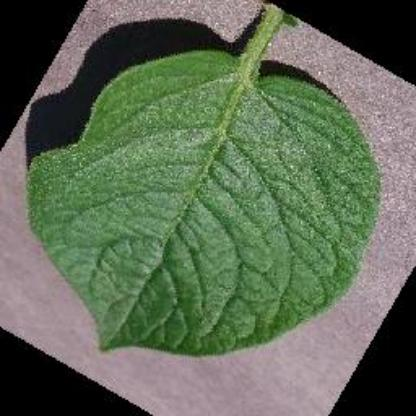Healthy-plant: (26, 6, 386, 354)
